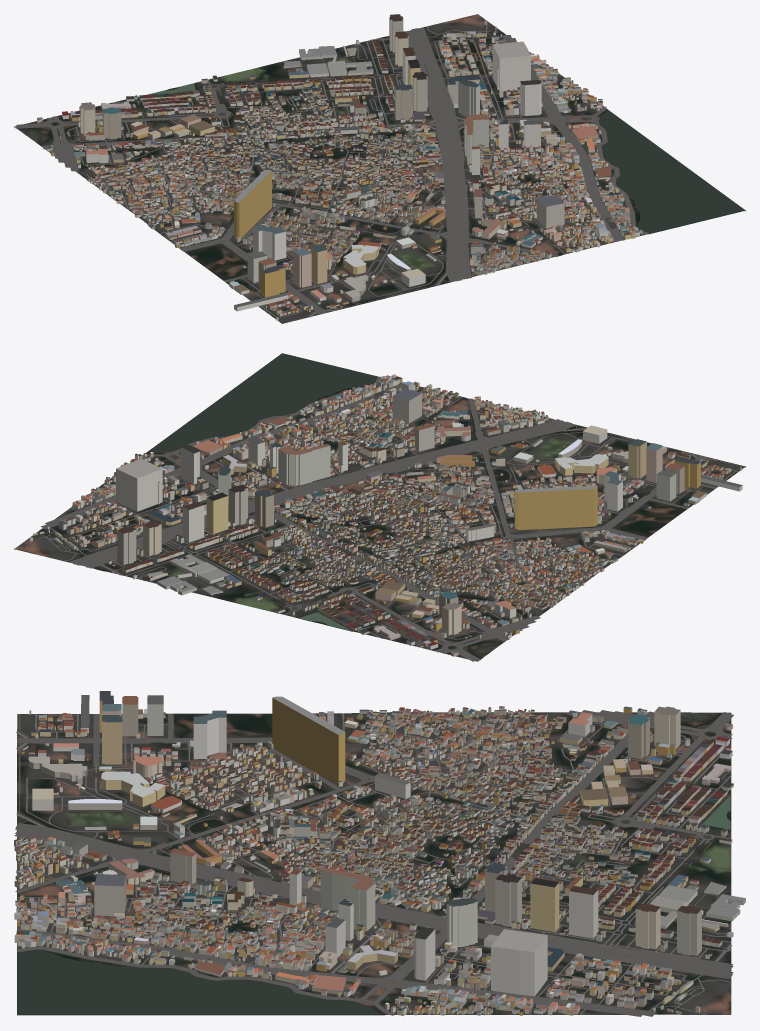
The picture shows the model from 3 angles, top to bottom: view 1: azimuth 30°, elevation 25°; view 2: azimuth 150°, elevation 25°; view 3: azimuth 270°, elevation 25°; orthographic projection. The views are drawn at different scales.
Parts seen in each view (by area): view 1: buildings, ground, roads, water; view 2: buildings, ground, roads, water; view 3: buildings, ground, roads, water.
Boxes of the visible parts, <box> form: buildings: <box>37,14,642,320</box>; ground: <box>14,14,745,323</box>; roads: <box>15,21,648,323</box>; water: <box>146,83,744,272</box>; buildings: <box>29,374,742,656</box>; ground: <box>14,353,745,661</box>; roads: <box>23,376,744,661</box>; water: <box>95,353,582,630</box>; buildings: <box>14,691,745,1016</box>; ground: <box>17,712,731,1015</box>; roads: <box>14,710,733,1016</box>; water: <box>17,762,731,1014</box>.
Bounding box in the file's own units: 1473 × 113 × 1437.
